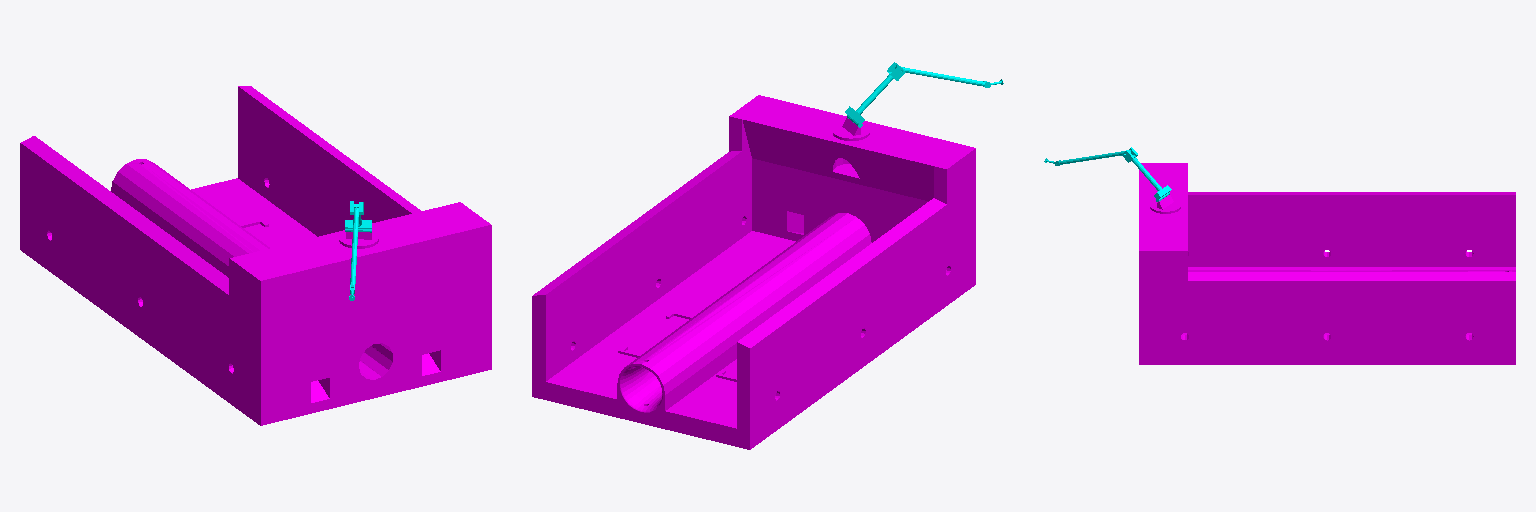
robot.urdf — urdfExports:
<?xml version="1.0" encoding="utf-8"?>
<!-- This URDF was automatically created by SolidWorks to URDF Exporter! Originally created by [author] ([email redacted])
     Commit Version: 1.5.1-0-g916b5db  Build Version: 1.5.7152.31018
     For more information, please see http://wiki.ros.org/sw_urdf_exporter -->
<robot
  name="urdfExports">
  <link
    name="base_link">
    <inertial>
      <origin
        xyz="7.2718E-07 -0.18 0.18323"
        rpy="0 0 0" />
      <mass
        value="325.51" />
      <inertia
        ixx="114.12"
        ixy="-0.0029457"
        ixz="-1.016E-05"
        iyy="44.651"
        iyz="11.453"
        izz="140.83" />
    </inertial>
    <visual>
      <origin
        xyz="0 0 0"
        rpy="0 0 0" />
      <geometry>
        <mesh
          filename="package://urdfExports/meshes/base_link.STL" />
      </geometry>
      <material
        name="">
        <color
          rgba="169 0 253 1" />
      </material>
    </visual>
    <collision>
      <origin
        xyz="0 0 0"
        rpy="0 0 0" />
      <geometry>
        <mesh
          filename="package://urdfExports/meshes/base_link.STL" />
      </geometry>
    </collision>
  </link>
  <link
    name="drehplatte">
    <inertial>
      <origin
        xyz="0 0.013893 0.00060356"
        rpy="0 0 0" />
      <mass
        value="0.42188" />
      <inertia
        ixx="0.0005517"
        ixy="1.3129E-20"
        ixz="1.3553E-19"
        iyy="0.0010552"
        iyz="-6.5402E-06"
        izz="0.00060462" />
    </inertial>
    <visual>
      <origin
        xyz="0 0 0"
        rpy="0 0 0" />
      <geometry>
        <mesh
          filename="package://urdfExports/meshes/drehplatte.STL" />
      </geometry>
      <material
        name="">
        <color
          rgba="84 0 253 1" />
      </material>
    </visual>
    <collision>
      <origin
        xyz="0 0 0"
        rpy="0 0 0" />
      <geometry>
        <mesh
          filename="package://urdfExports/meshes/drehplatte.STL" />
      </geometry>
    </collision>
  </link>
  <joint
    name="Dreplatte"
    type="continuous">
    <origin
      xyz="0 -0.77238 0.59117"
      rpy="1.5708 0 -0.56324" />
    <parent
      link="base_link" />
    <child
      link="drehplatte" />
    <axis
      xyz="0 1 0" />
  </joint>
  <link
    name="oberarm">
    <inertial>
      <origin
        xyz="-1.1102E-16 0.013603 -0.1102"
        rpy="0 0 0" />
      <mass
        value="0.27688" />
      <inertia
        ixx="0.0028368"
        ixy="5.421E-19"
        ixz="6.8847E-18"
        iyy="0.0029288"
        iyz="4.2998E-05"
        izz="0.00014291" />
    </inertial>
    <visual>
      <origin
        xyz="0 0 0"
        rpy="0 0 0" />
      <geometry>
        <mesh
          filename="package://urdfExports/meshes/oberarm.STL" />
      </geometry>
      <material
        name="">
        <color
          rgba="0 76 253 1" />
      </material>
    </visual>
    <collision>
      <origin
        xyz="0 0 0"
        rpy="0 0 0" />
      <geometry>
        <mesh
          filename="package://urdfExports/meshes/oberarm.STL" />
      </geometry>
    </collision>
  </link>
  <joint
    name="Oberarm"
    type="continuous">
    <origin
      xyz="0 0.06 0.015"
      rpy="-2.4448 0 3.1416" />
    <parent
      link="drehplatte" />
    <child
      link="oberarm" />
    <axis
      xyz="1 0 0" />
  </joint>
  <link
    name="unterarm">
    <inertial>
      <origin
        xyz="1.9984E-15 0 0.21035"
        rpy="0 0 0" />
      <mass
        value="0.13865" />
      <inertia
        ixx="0.0022619"
        ixy="1.3553E-19"
        ixz="-8.5663E-18"
        iyy="0.002262"
        iyz="1.4743E-18"
        izz="7.3145E-06" />
    </inertial>
    <visual>
      <origin
        xyz="0 0 0"
        rpy="0 0 0" />
      <geometry>
        <mesh
          filename="package://urdfExports/meshes/unterarm.STL" />
      </geometry>
      <material
        name="">
        <color
          rgba="0 143 253 1" />
      </material>
    </visual>
    <collision>
      <origin
        xyz="0 0 0"
        rpy="0 0 0" />
      <geometry>
        <mesh
          filename="package://urdfExports/meshes/unterarm.STL" />
      </geometry>
    </collision>
  </link>
  <joint
    name="Unterarm"
    type="continuous">
    <origin
      xyz="0 0.015 -0.27"
      rpy="-2.0712 0 3.1416" />
    <parent
      link="oberarm" />
    <child
      link="unterarm" />
    <axis
      xyz="1 0 0" />
  </joint>
  <link
    name="hand">
    <inertial>
      <origin
        xyz="3.8858E-15 -2.2204E-16 0.032382"
        rpy="0 0 0" />
      <mass
        value="0.0067909" />
      <inertia
        ixx="3.69E-06"
        ixy="-1.8529E-22"
        ixz="1.9078E-20"
        iyy="3.6887E-06"
        iyz="3.5141E-20"
        izz="1.4958E-07" />
    </inertial>
    <visual>
      <origin
        xyz="0 0 0"
        rpy="0 0 0" />
      <geometry>
        <mesh
          filename="package://urdfExports/meshes/hand.STL" />
      </geometry>
      <material
        name="">
        <color
          rgba="0 228 253 1" />
      </material>
    </visual>
    <collision>
      <origin
        xyz="0 0 0"
        rpy="0 0 0" />
      <geometry>
        <mesh
          filename="package://urdfExports/meshes/hand.STL" />
      </geometry>
    </collision>
  </link>
  <joint
    name="Hand"
    type="continuous">
    <origin
      xyz="0 0 0.43"
      rpy="-0.33213 0 0" />
    <parent
      link="unterarm" />
    <child
      link="hand" />
    <axis
      xyz="1 0 0" />
  </joint>
</robot>

--- Render facts (derived) ---
3 views of the same robot in one strip: view 1: azimuth 30°, elevation 25°; view 2: azimuth 150°, elevation 25°; view 3: azimuth 270°, elevation 25° (orthographic).
Robot: urdfExports — 5 links, 4 joints (4 continuous); root link base_link; default pose: all joints at 0.
Links seen in each view (by area): view 1: base_link; view 2: base_link, oberarm, drehplatte; view 3: base_link.
Boxes of the visible links, left/top/right/bottom form: base_link: left=20, top=86, right=491, bottom=425; base_link: left=532, top=95, right=975, bottom=449; oberarm: left=845, top=62, right=905, bottom=127; drehplatte: left=833, top=118, right=869, bottom=140; base_link: left=1139, top=163, right=1515, bottom=364.
Size in the robot's own frame: 1 by 2.25 by 0.8577 metres.
Meshes: 5 distinct files referenced, 5 mesh visuals loaded (5 binary STL).